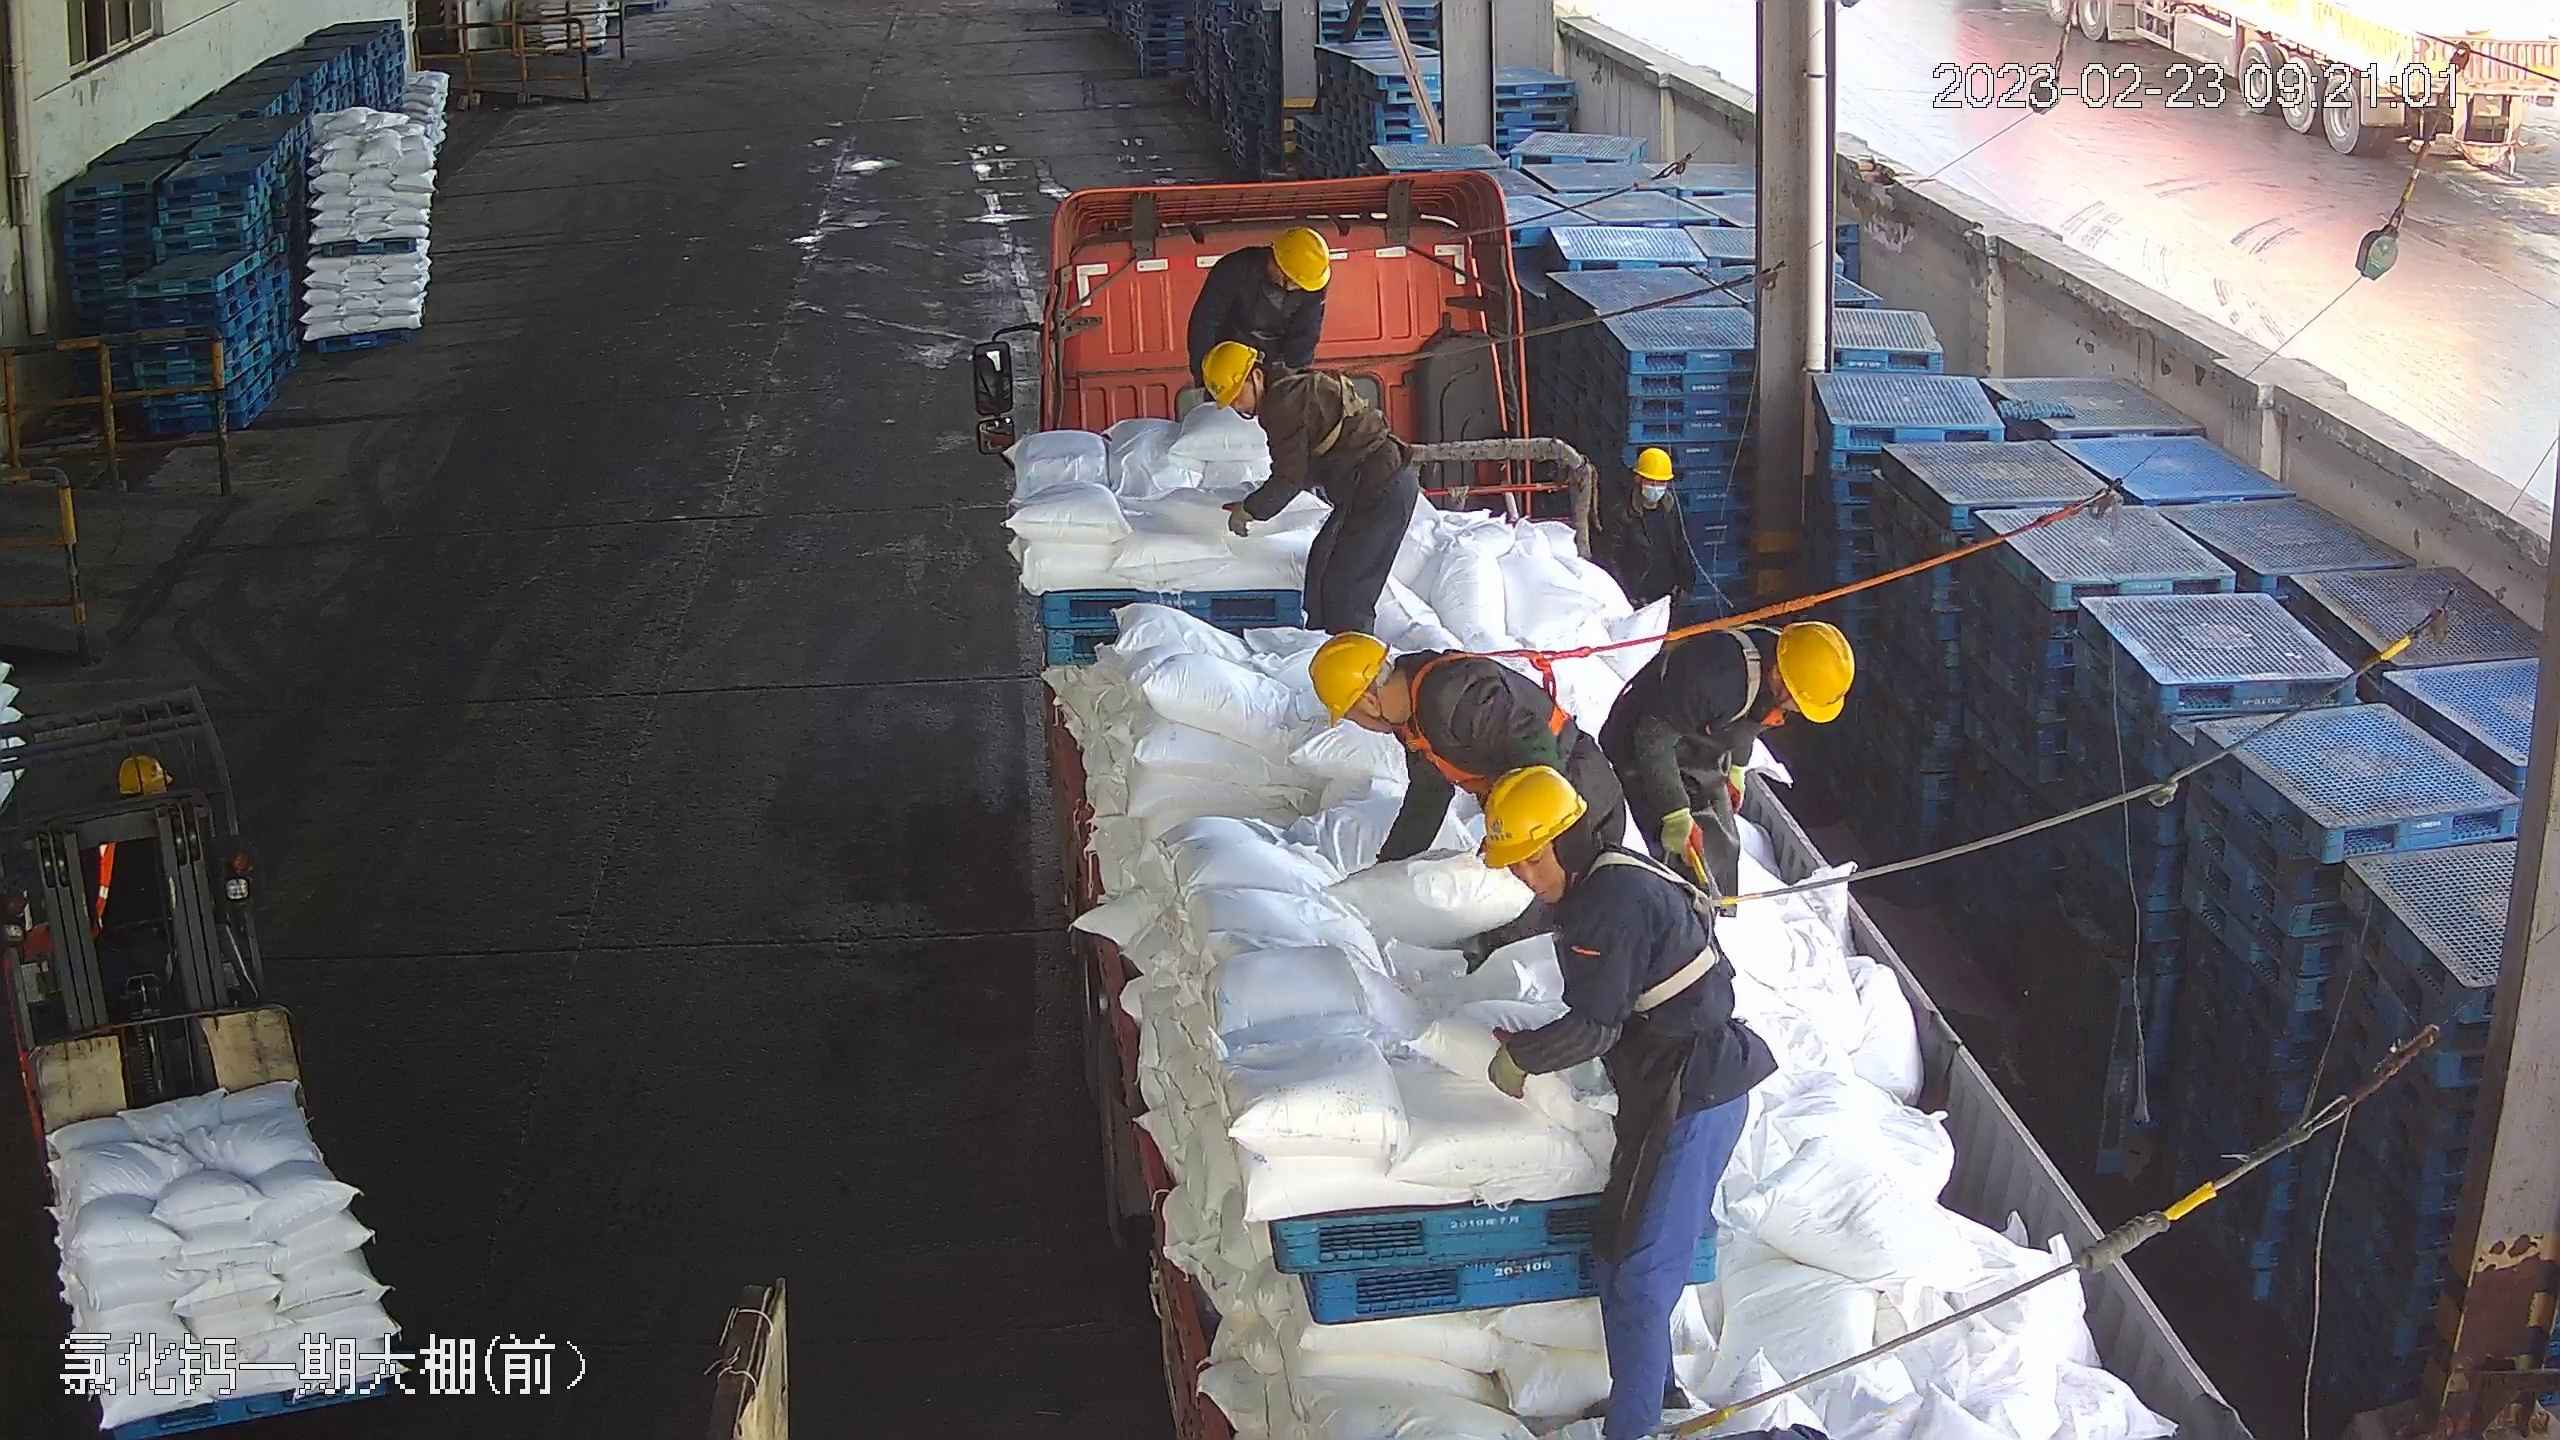belt: (1395, 625, 1566, 789), (1593, 845, 1741, 1028), (1276, 356, 1380, 460), (1722, 619, 1781, 724)
head: (1480, 766, 1705, 932), (1682, 611, 1860, 741), (1303, 631, 1468, 751), (1193, 218, 1332, 310), (1202, 338, 1341, 427), (1608, 445, 1697, 539)
helmet: (1476, 767, 1591, 861), (1774, 616, 1861, 721), (1304, 631, 1388, 716), (1270, 216, 1340, 291), (1197, 336, 1264, 405), (1630, 442, 1677, 482)
people: (1482, 764, 1769, 1435), (1310, 615, 1637, 853), (1621, 601, 1862, 903), (1198, 339, 1416, 635)
truck: (990, 169, 2252, 1440)
